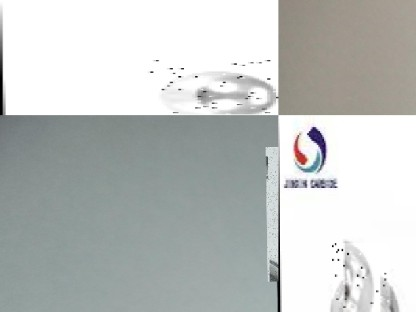ironball: (149, 60, 278, 114), (331, 243, 390, 311)
